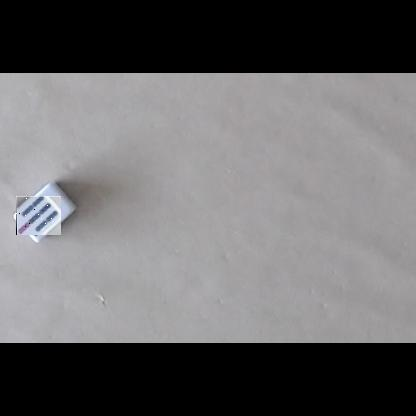7s: (16, 196, 61, 235)
